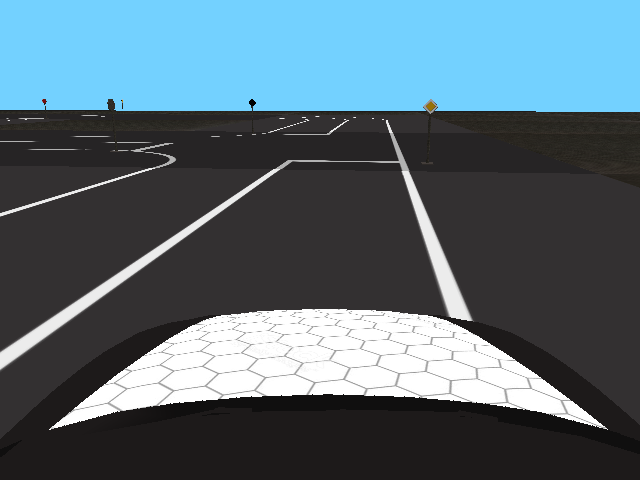yellow_light: (423, 99, 439, 115)
